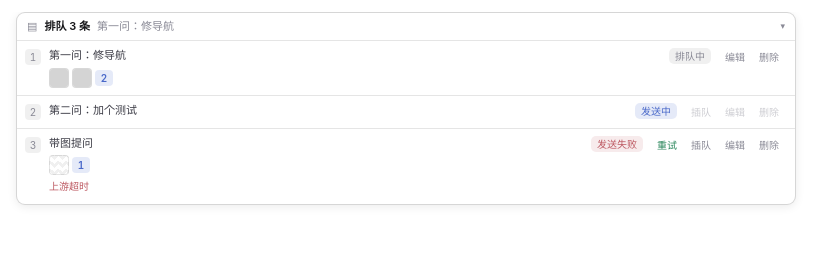
Test case: MessageQueue › edits inline: prefilled textarea, save commits, editor closes
Click the button with test id "queue-edit-0": (735, 57) top-left (719, 48), bottom-right (751, 66)
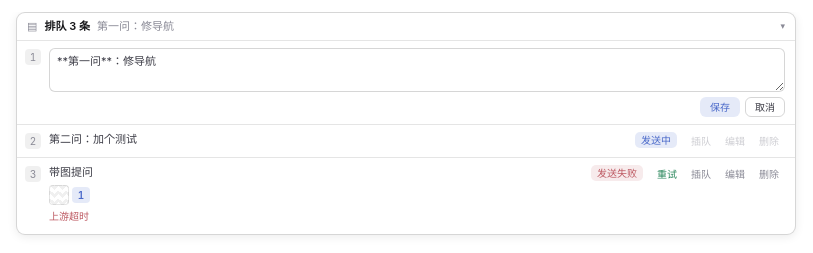
expect the text box with test id "queue-editor-input-0" holds "**第一问**：修导航": met
Replace the text in the text box with test id "queue-editor-input-0" with "更新后的消息": (417, 70) top-left (49, 48), bottom-right (785, 92)
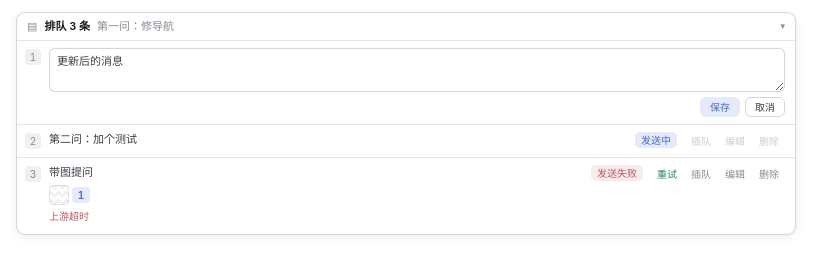
Click the button with test id "queue-save": (720, 107) top-left (700, 97), bottom-right (740, 117)
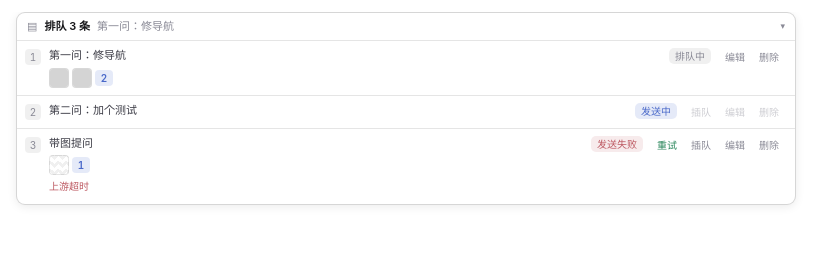
expect the button with test id "queue-edit-0" is shown: met, box top-left (719, 48), bottom-right (751, 66)
